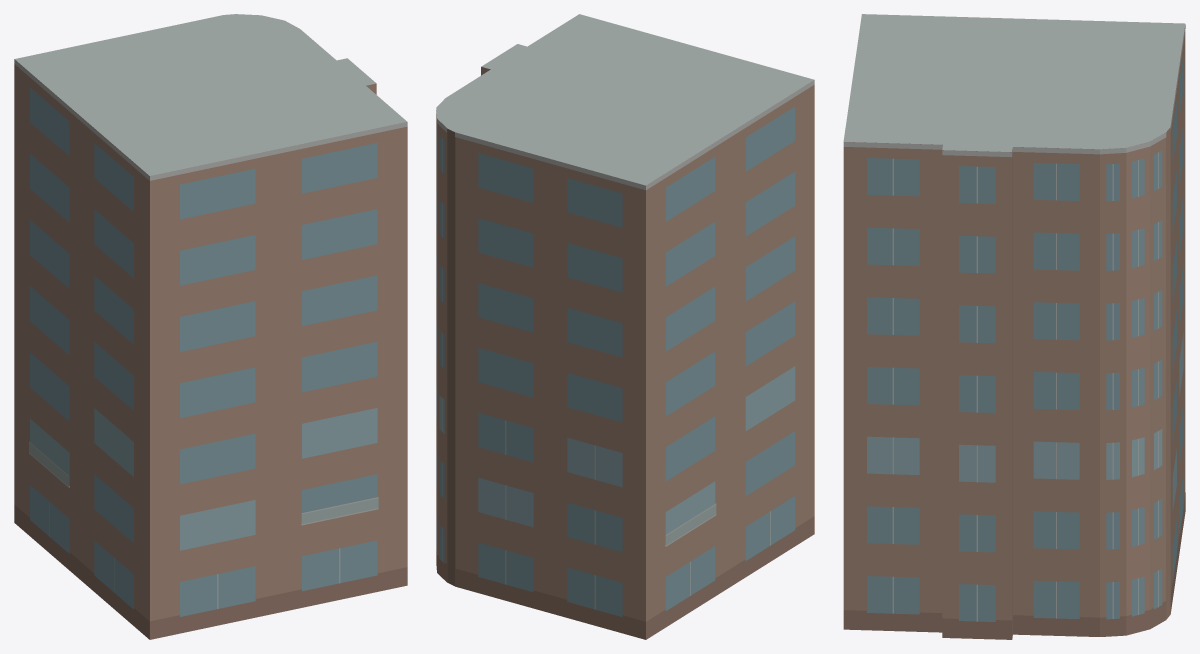
Rendered from survey-upis-32642082.glb.
3 views of the same model, side by side, from view 1: azimuth 30°, elevation 25°; view 2: azimuth 150°, elevation 25°; view 3: azimuth 270°, elevation 25° (orthographic). The views are drawn at different scales.
Parts seen in each view (by area): view 1: survey-upis-32642082.tmp; view 2: survey-upis-32642082.tmp; view 3: survey-upis-32642082.tmp.
Boxes of the visible parts, box(x1,y1,x2,y2) form: survey-upis-32642082.tmp: box(14, 14, 407, 639); survey-upis-32642082.tmp: box(436, 14, 814, 639); survey-upis-32642082.tmp: box(843, 14, 1185, 639).
Size of the model in its own units: 14.34 by 23.6 by 15.01.
